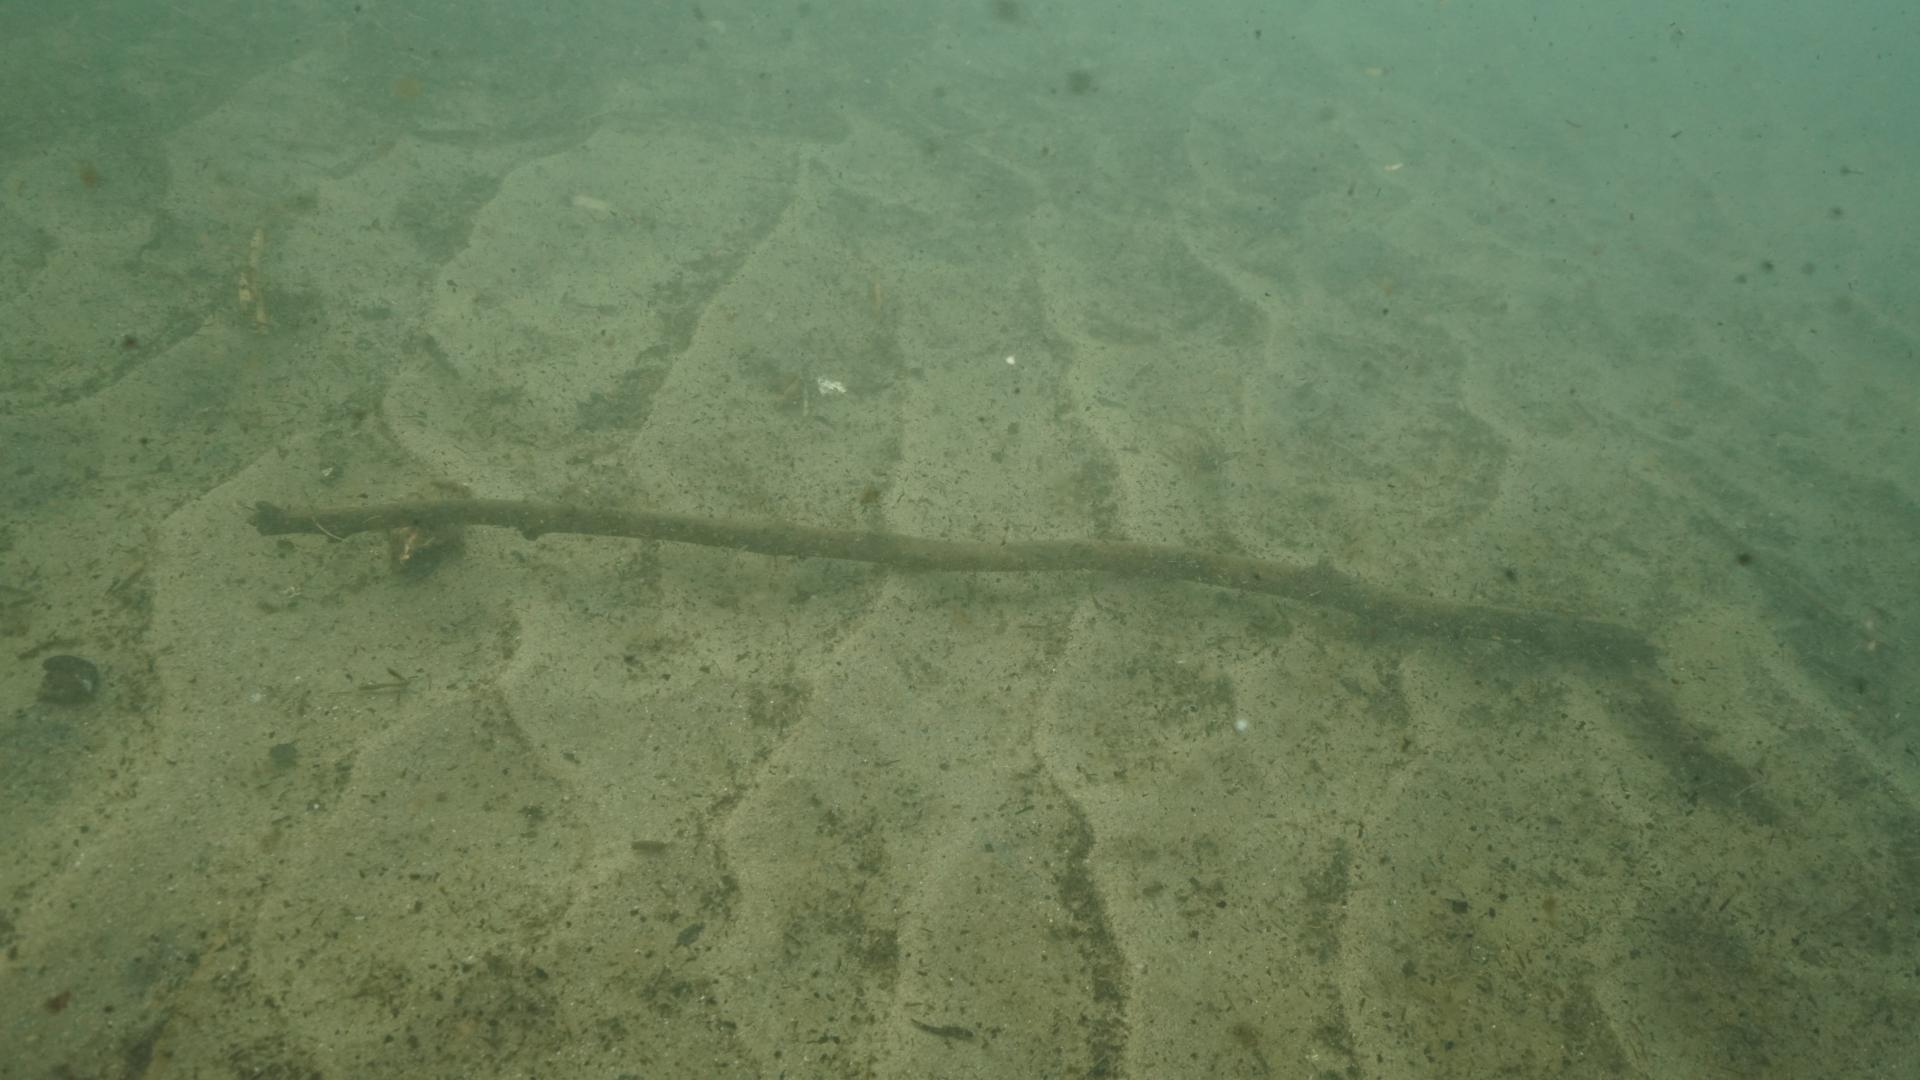wood: (241, 498, 1662, 667)
